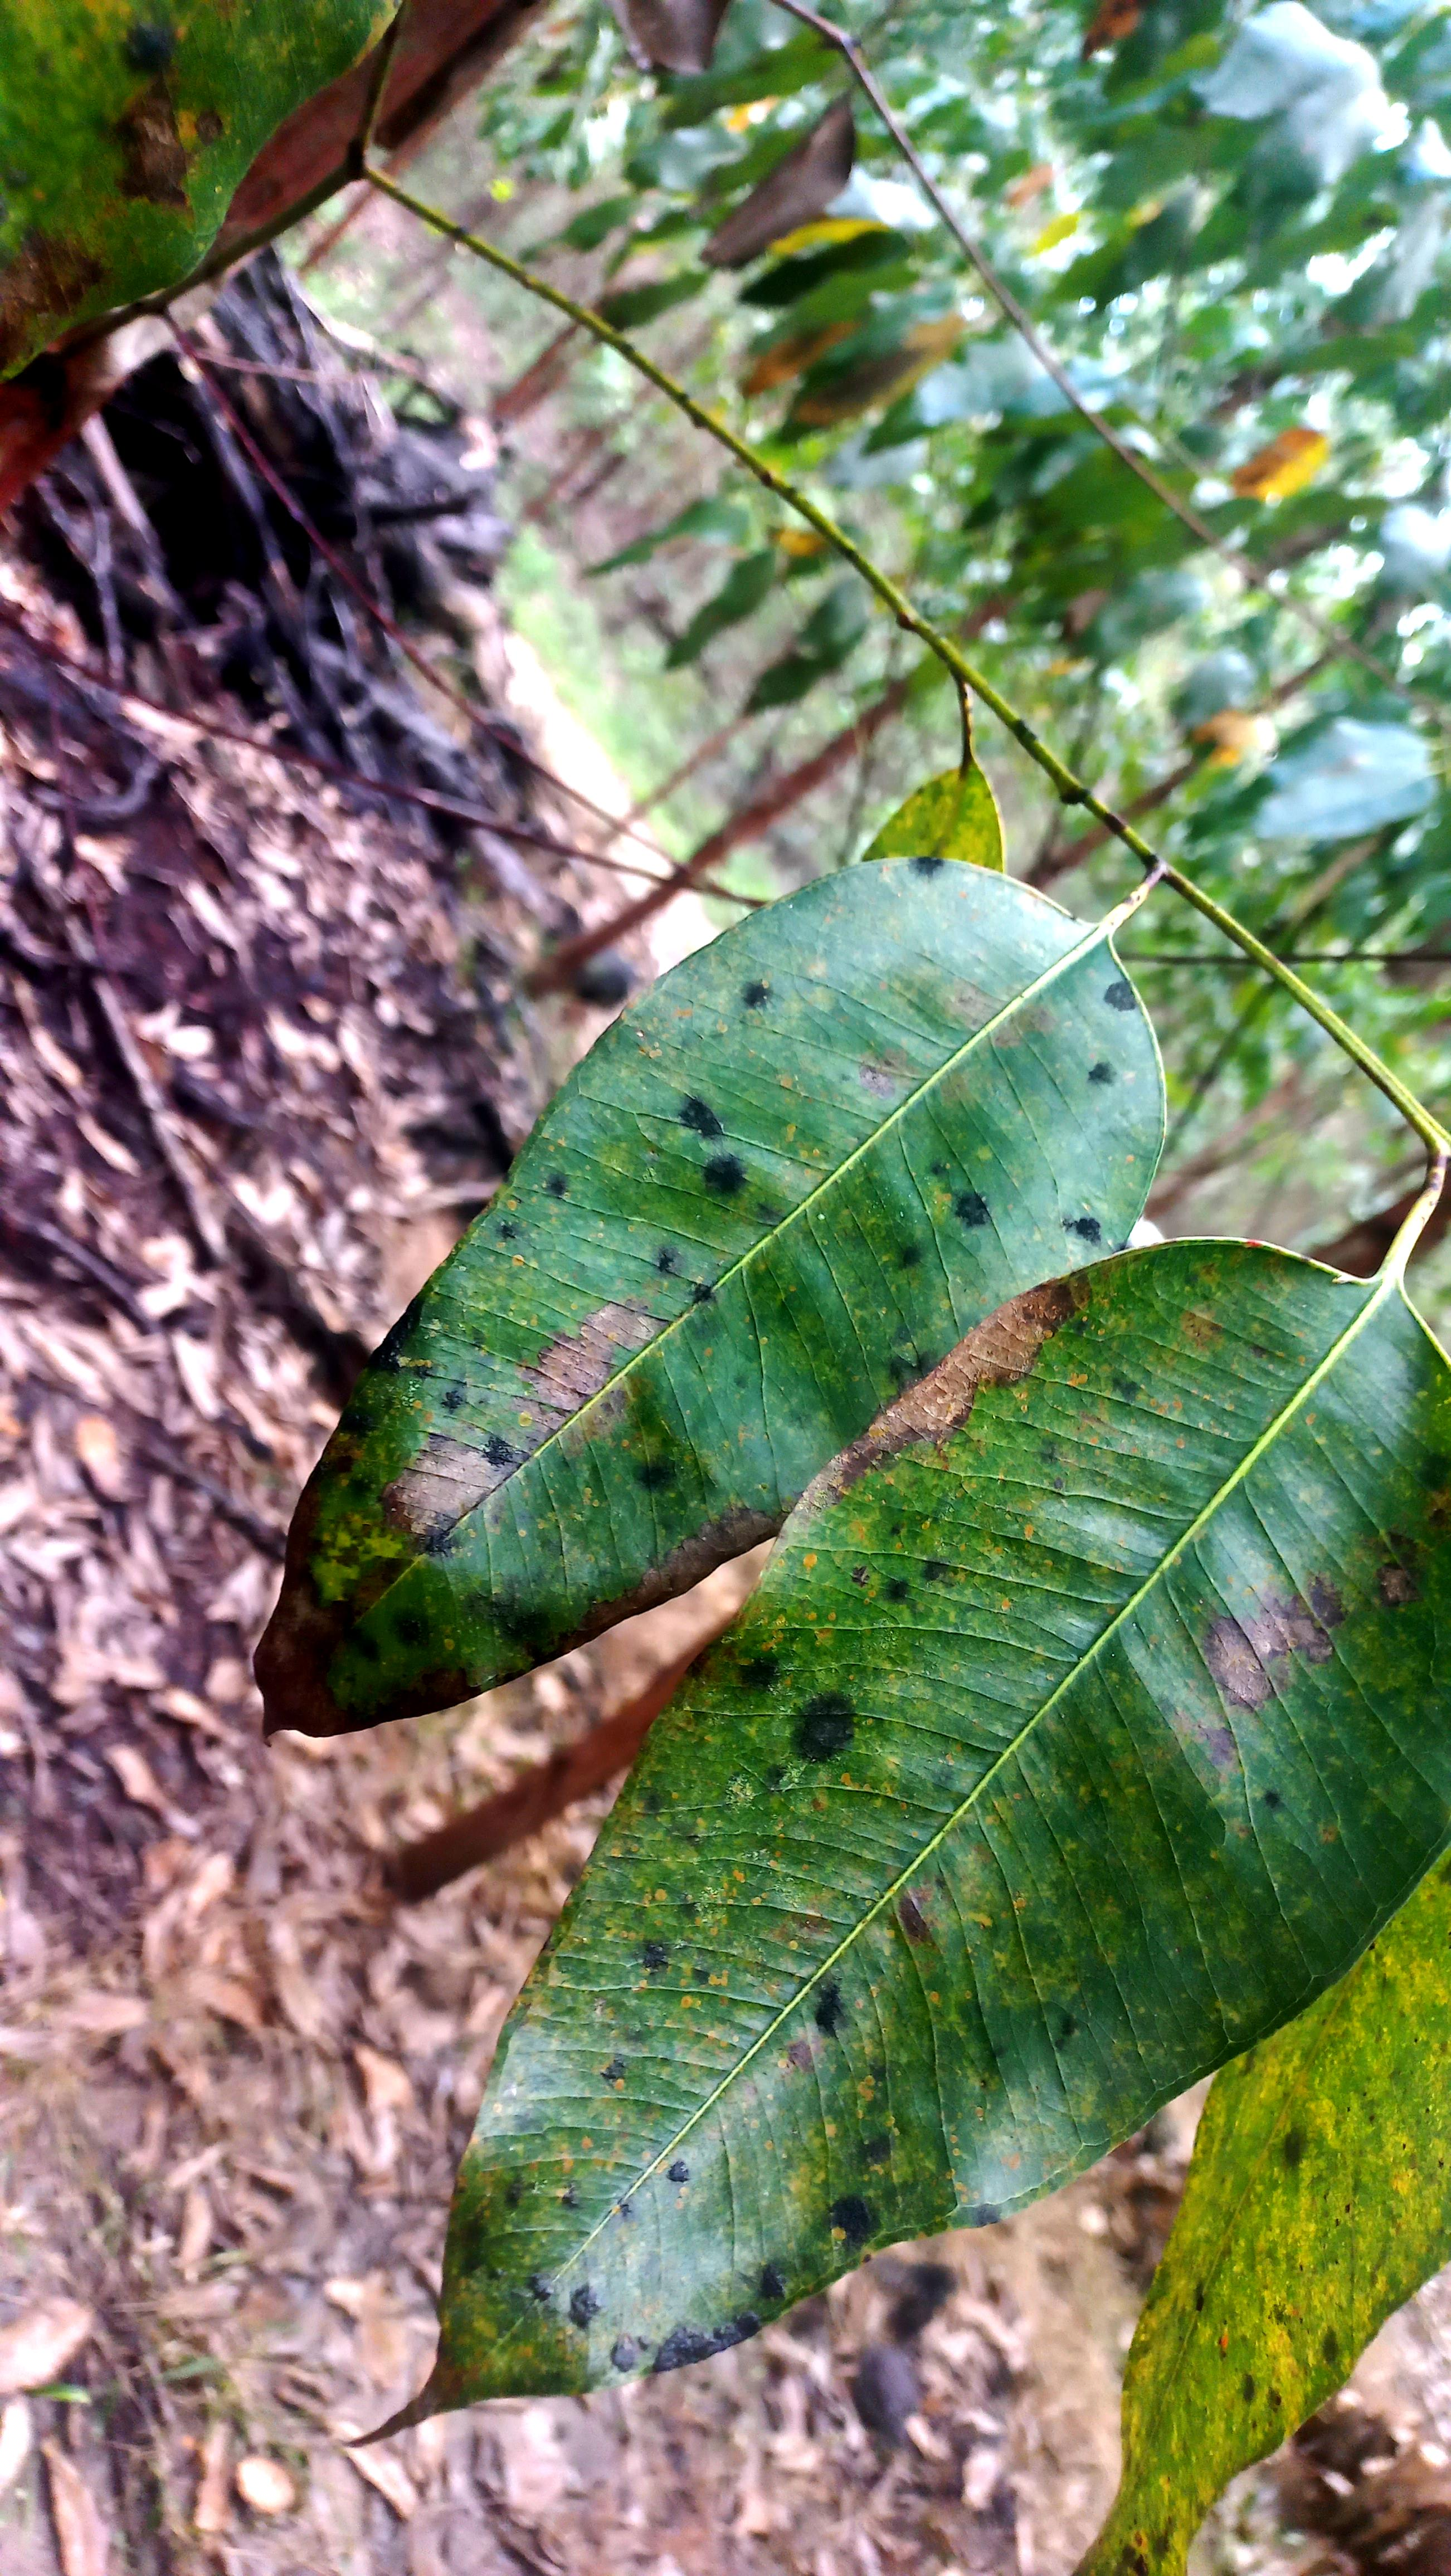Cylindrocladium: (0, 0, 554, 525), (366, 1288, 814, 1644), (830, 1272, 1097, 1536), (715, 51, 849, 258), (1221, 419, 1348, 517)
Embun Jelaga: (524, 1552, 1122, 2433), (584, 847, 1152, 1261)
